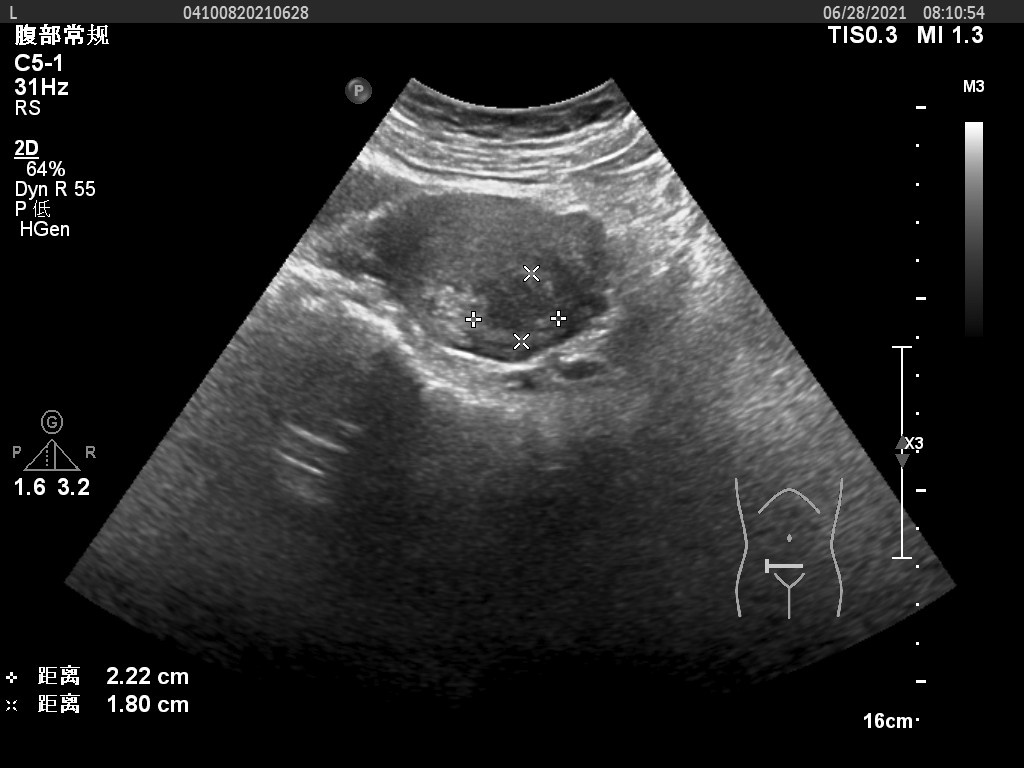肌瘤: (491, 284, 562, 333)
